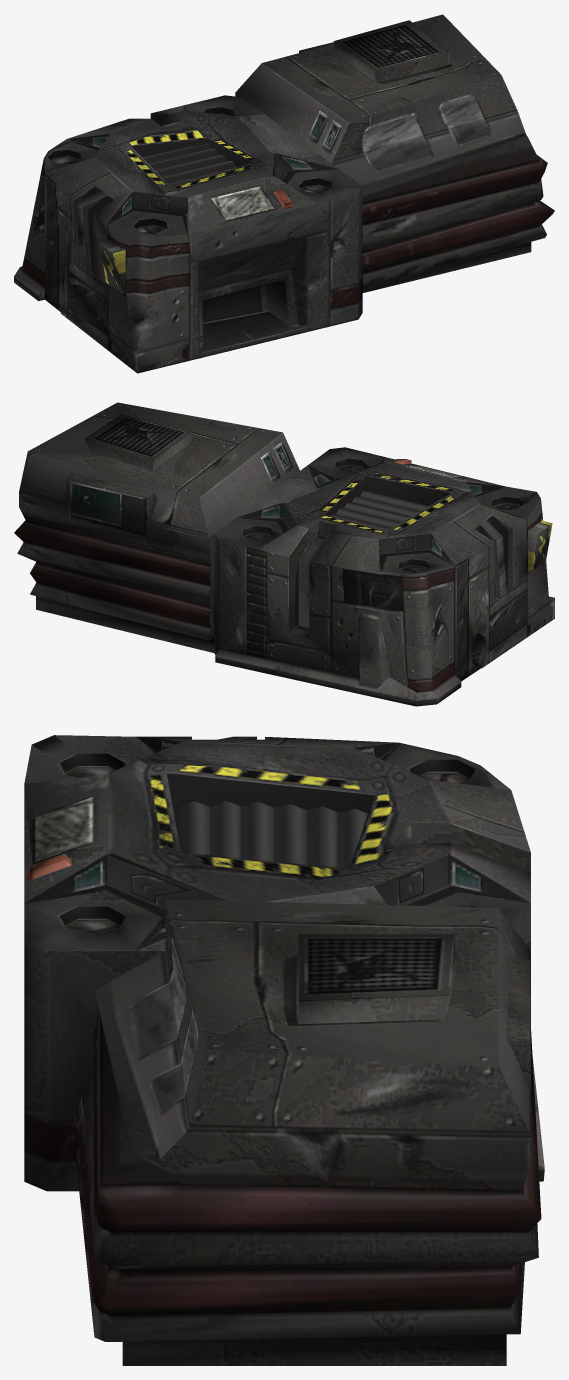
The model's file is generator1off.glb.
3 renders of one model, top to bottom at view 1: azimuth 30°, elevation 25°; view 2: azimuth 150°, elevation 25°; view 3: azimuth 270°, elevation 25°, orthographic. The views are drawn at different scales.
Visible parts, largest first — view 1: Box03; view 2: Box03; view 3: Box03.
Boxes of the visible parts, x1,y1,x2,y2 form: Box03: (14, 14, 554, 373); Box03: (14, 402, 554, 706); Box03: (24, 735, 544, 1365).
Bounding box in the file's own units: 207 × 78.3 × 110.
1 material, 1 textured.
